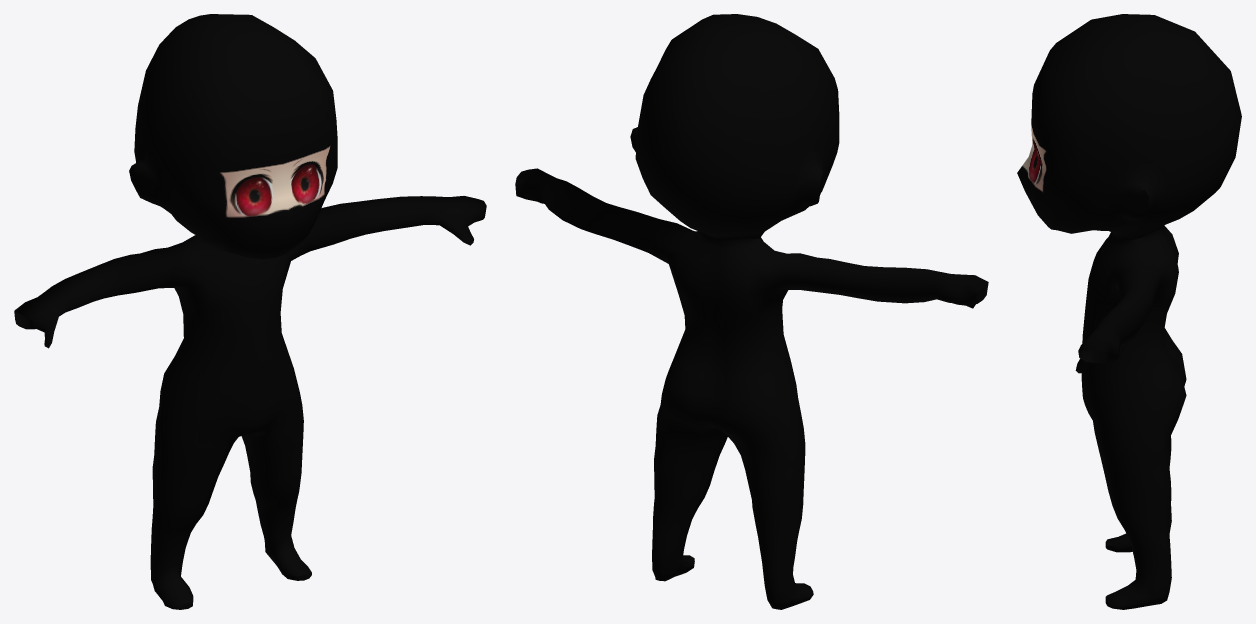
Rendered from ninja.fbx.
The picture shows the model from 3 angles, left to right: view 1: azimuth 30°, elevation 25°; view 2: azimuth 150°, elevation 25°; view 3: azimuth 270°, elevation 25°; orthographic projection.
Visible parts, largest first — view 1: chibiBaseMesh:Chibi_basemesh; view 2: chibiBaseMesh:Chibi_basemesh; view 3: chibiBaseMesh:Chibi_basemesh.
Part boxes in pixels (bbox=[...]): chibiBaseMesh:Chibi_basemesh: bbox=[14, 14, 486, 609]; chibiBaseMesh:Chibi_basemesh: bbox=[515, 14, 988, 609]; chibiBaseMesh:Chibi_basemesh: bbox=[1017, 14, 1241, 609].
Size of the model in its own units: 22.54 by 26.09 by 9.61.
